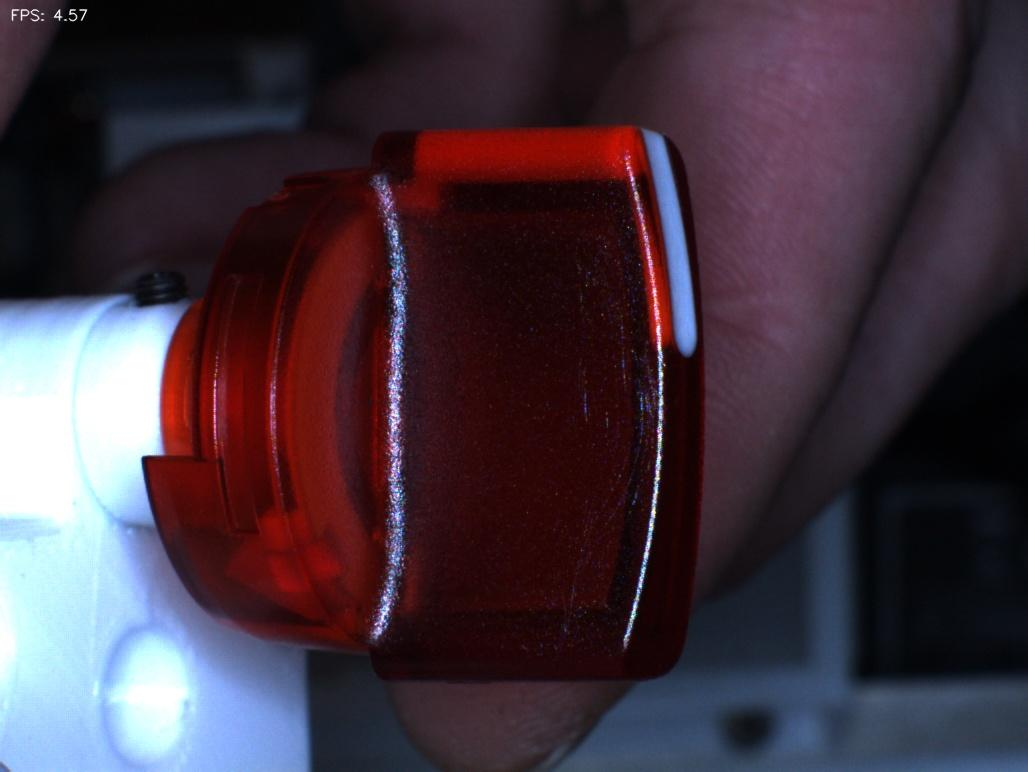Givrage: (569, 265, 654, 567)
